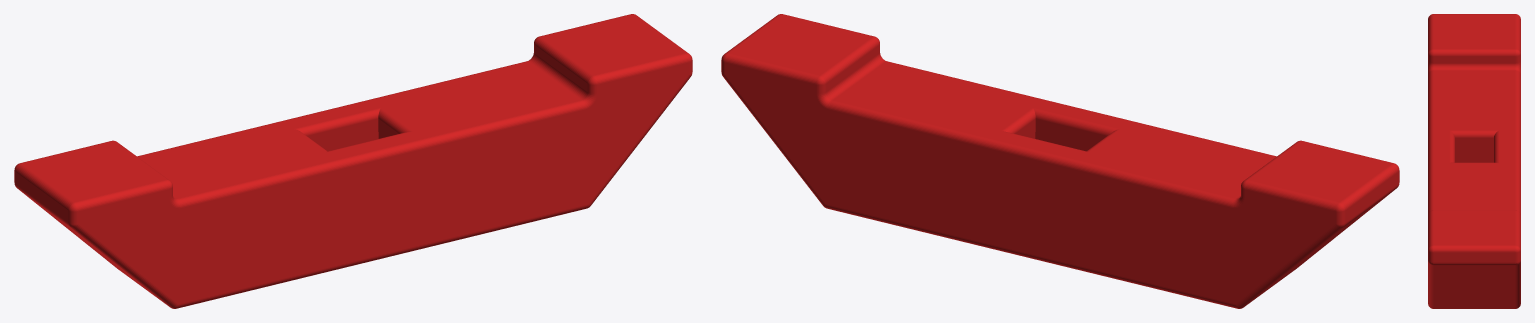
File: 1_colored.obj
3 views of the same model, side by side, from view 1: azimuth 30°, elevation 25°; view 2: azimuth 150°, elevation 25°; view 3: azimuth 270°, elevation 25° (orthographic). The views are drawn at different scales.
Size of the model in its own units: 0.1524 by 0.0305 by 0.0254.
